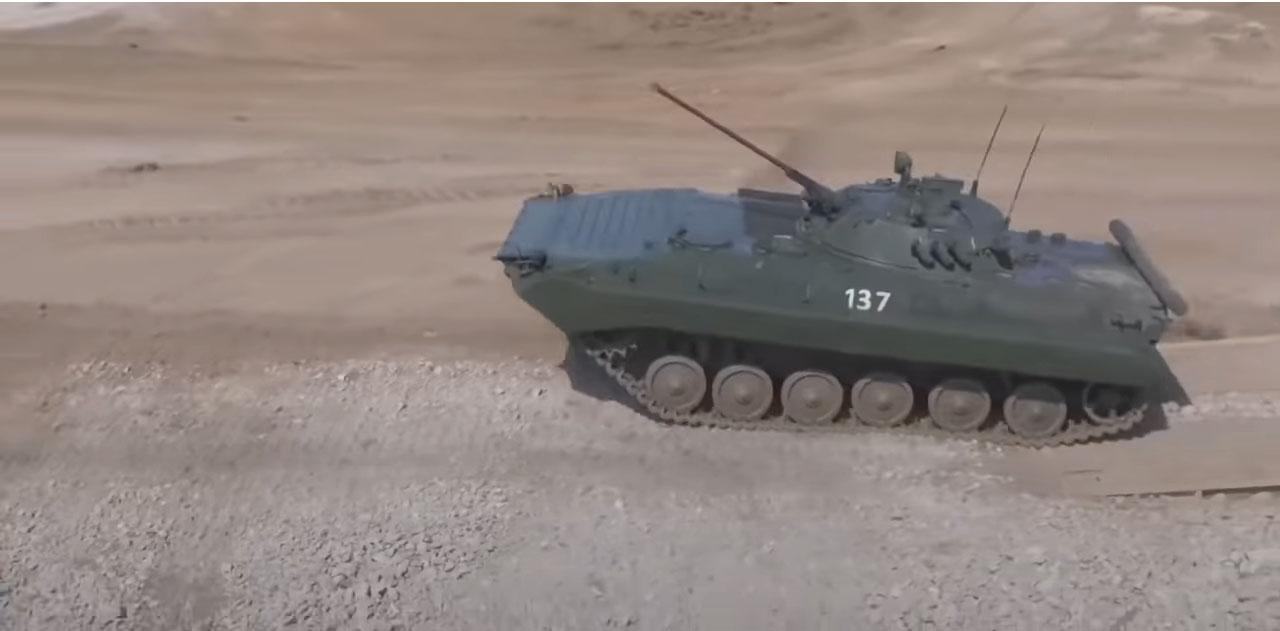tank: (504, 79, 1206, 454)
